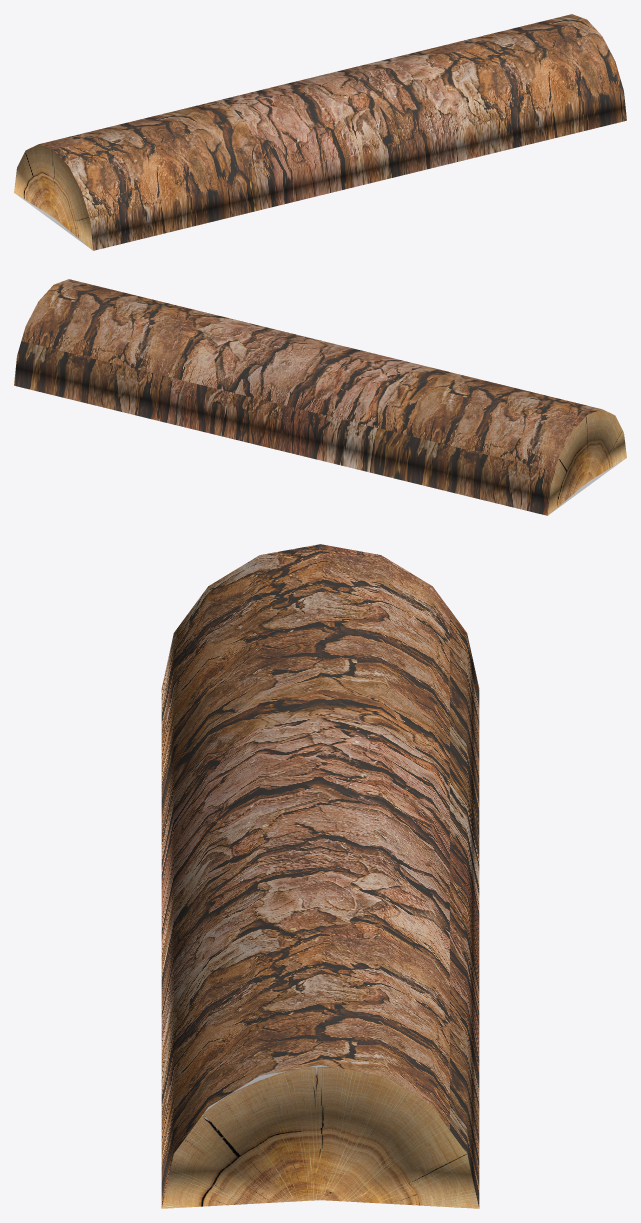
Rendered from log3.fbx.
3 views of the same model, one above another, from view 1: azimuth 30°, elevation 25°; view 2: azimuth 150°, elevation 25°; view 3: azimuth 270°, elevation 25° (orthographic). The views are drawn at different scales.
Parts seen in each view (by area): view 1: log; view 2: log; view 3: log.
Part boxes in pixels (x1,y1,x2,y2): log: (14,14,626,250); log: (14,279,626,515); log: (161,544,479,1208).
Size of the model in its own units: 8 by 1.03 by 2.06.
